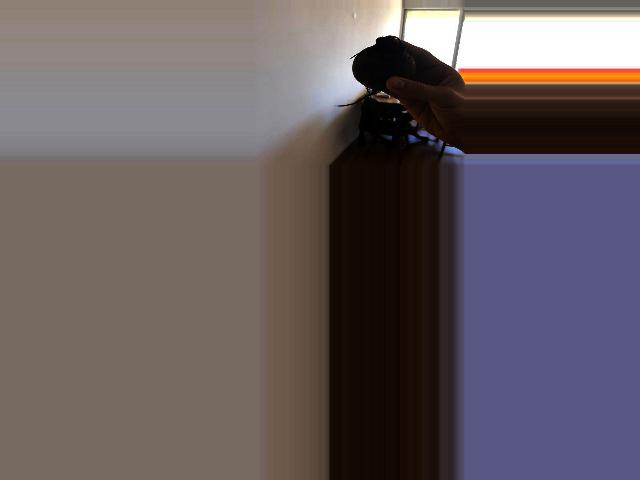beet: (334, 35, 415, 106)
